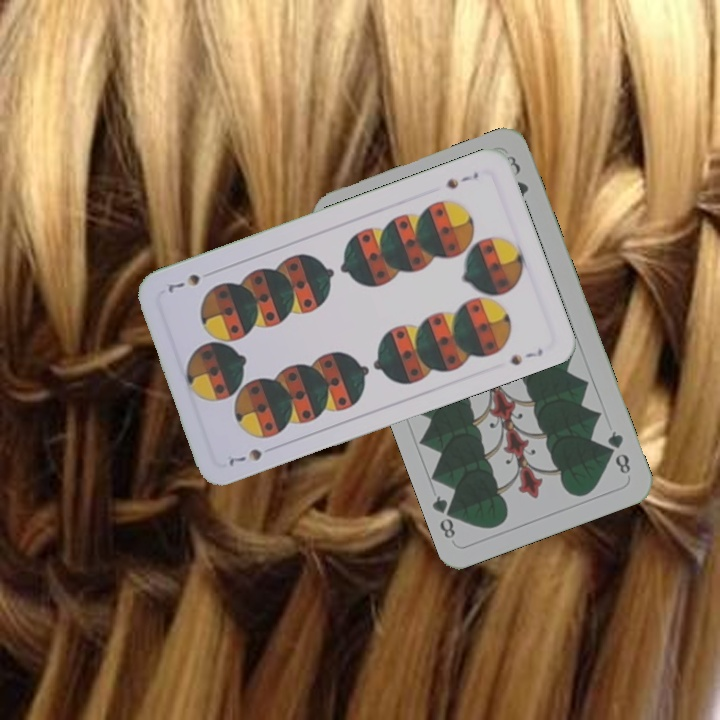G8: (603, 426, 634, 477)
S7: (223, 444, 265, 469), (441, 167, 481, 192)
